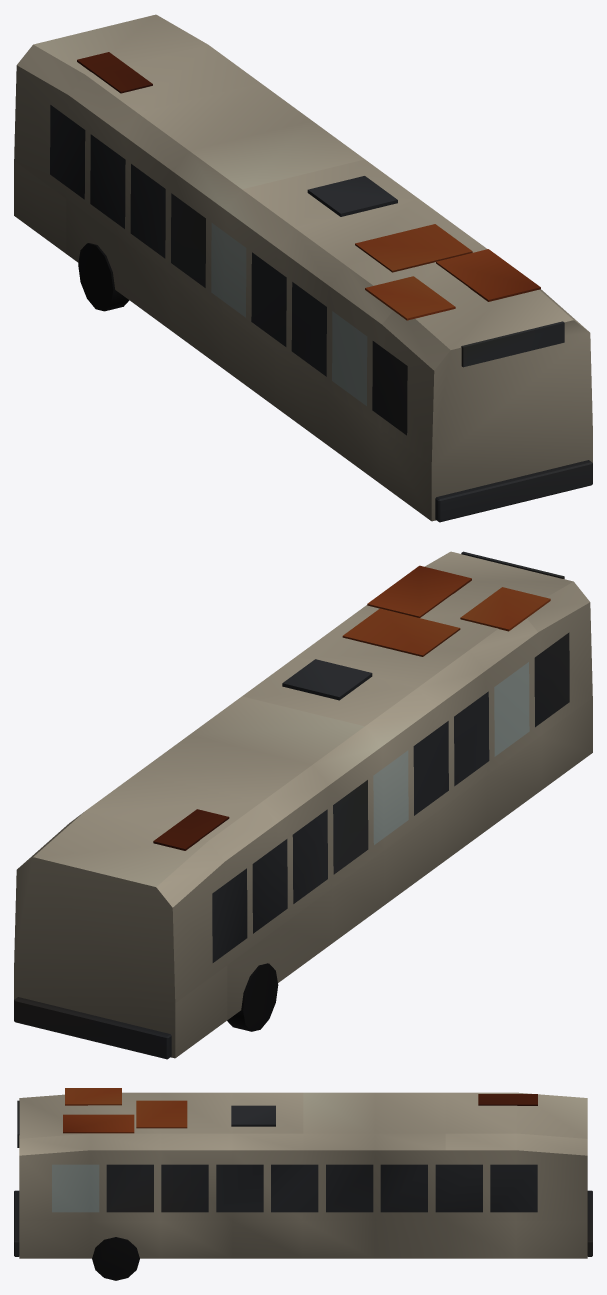
Rendered from wreck_bus.glb.
The picture shows the model from 3 angles, top to bottom: view 1: azimuth 30°, elevation 25°; view 2: azimuth 150°, elevation 25°; view 3: azimuth 270°, elevation 25°; orthographic projection. The views are drawn at different scales.
Parts seen in each view (by area): view 1: paint, metal_dark, rust, glass, rubber; view 2: paint, metal_dark, rust, glass, rubber; view 3: paint, metal_dark, rust, glass, rubber.
Part boxes in pixels (left/top/right/bottom): paint: left=14, top=14, right=592, bottom=521; metal_dark: left=50, top=105, right=592, bottom=522; rust: left=77, top=52, right=540, bottom=320; glass: left=211, top=223, right=366, bottom=405; rubber: left=78, top=243, right=129, bottom=311; paint: left=14, top=551, right=592, bottom=1058; metal_dark: left=14, top=551, right=569, bottom=1059; rust: left=153, top=565, right=550, bottom=850; glass: left=373, top=662, right=529, bottom=844; rubber: left=227, top=963, right=278, bottom=1031; paint: left=19, top=1092, right=587, bottom=1258; metal_dark: left=14, top=1100, right=592, bottom=1256; rust: left=63, top=1088, right=537, bottom=1133; glass: left=52, top=1165, right=98, bottom=1211; rubber: left=92, top=1237, right=139, bottom=1280.
Size of what is drawn, in the model's own units: 2.6 by 3.16 by 11.62.
